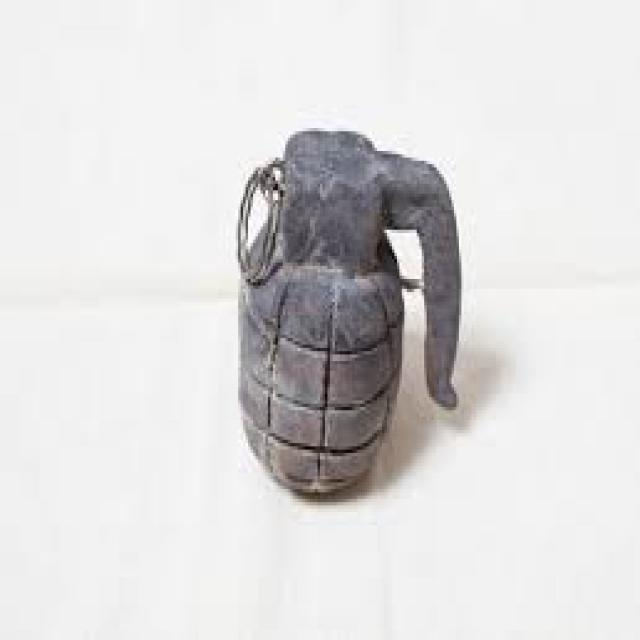grenade: (225, 120, 471, 512)
